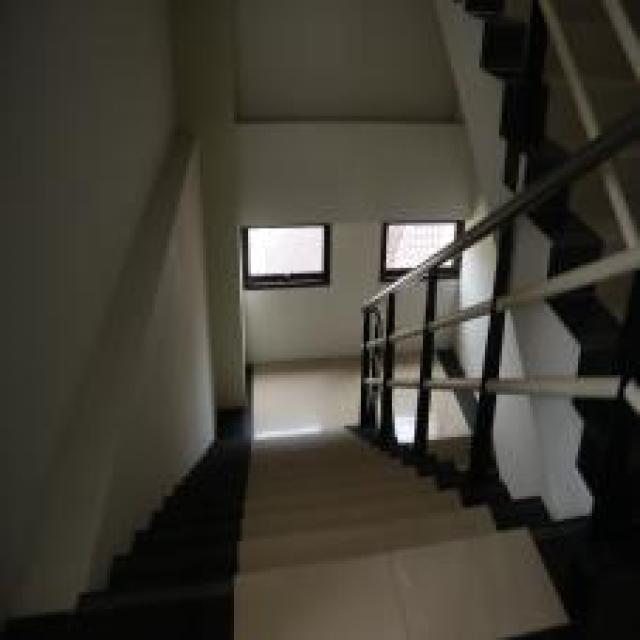downstair: (198, 475, 438, 638)
